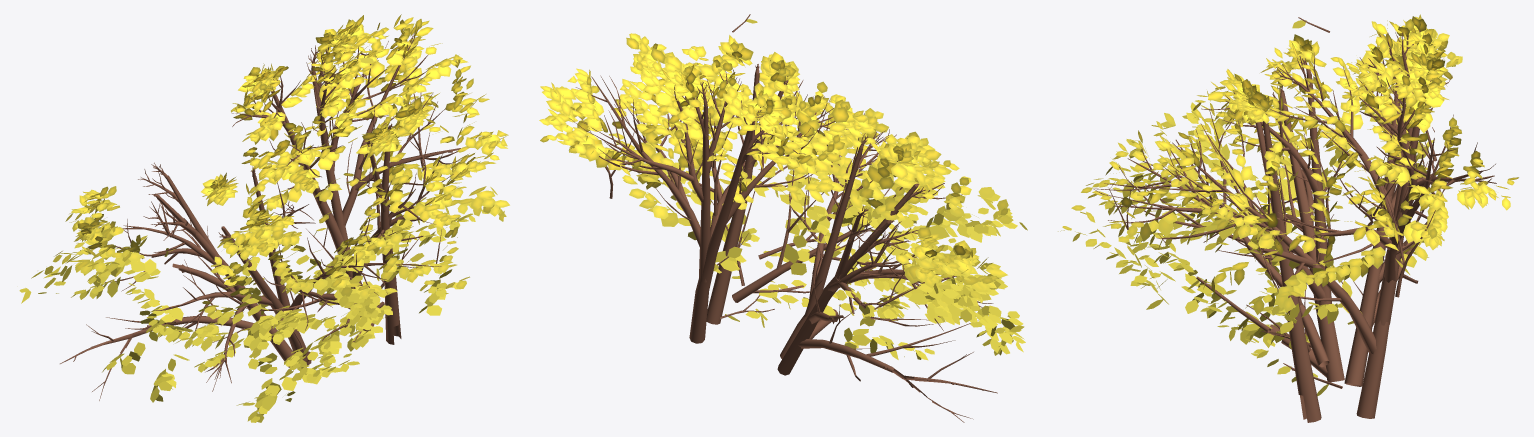
The model's file is arbre.fbx.
The picture shows the model from 3 angles, left to right: view 1: azimuth 30°, elevation 25°; view 2: azimuth 150°, elevation 25°; view 3: azimuth 270°, elevation 25°; orthographic projection. The views are drawn at different scales.
Visible parts, largest first — view 1: leaves.003, tree.003; view 2: leaves.003, tree.003; view 3: leaves.003, tree.003.
Boxes of the visible parts, x1=… form: leaves.003: x1=19, y1=14, x2=509, y2=422; tree.003: x1=60, y1=34, x2=460, y2=400; leaves.003: x1=539, y1=19, x2=1027, y2=360; tree.003: x1=569, y1=14, x2=997, y2=422; leaves.003: x1=1058, y1=14, x2=1518, y2=396; tree.003: x1=1093, y1=17, x2=1496, y2=422.
Bounding box in the file's own units: 5.83 × 3.89 × 4.
